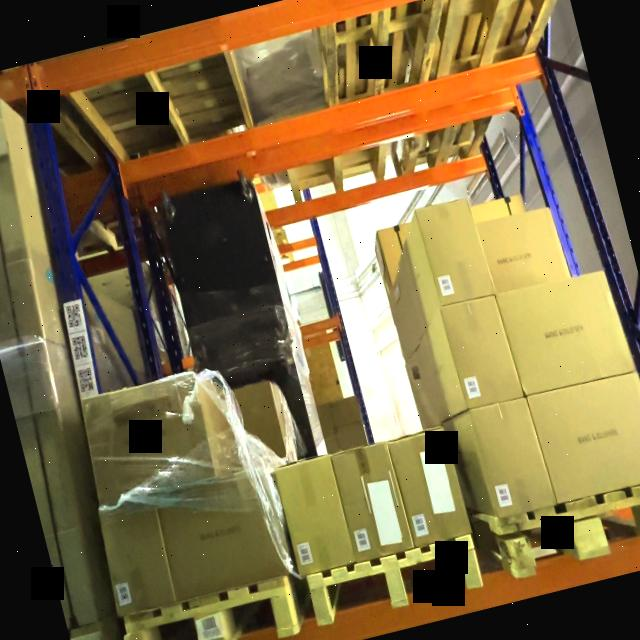box: (156, 466, 289, 599), (496, 271, 636, 396), (83, 373, 214, 506), (526, 371, 640, 504), (470, 398, 557, 518), (388, 429, 470, 548), (275, 456, 356, 575), (440, 294, 524, 408), (333, 443, 413, 560), (99, 500, 178, 616), (480, 207, 571, 292), (420, 201, 493, 305), (226, 383, 285, 468)
